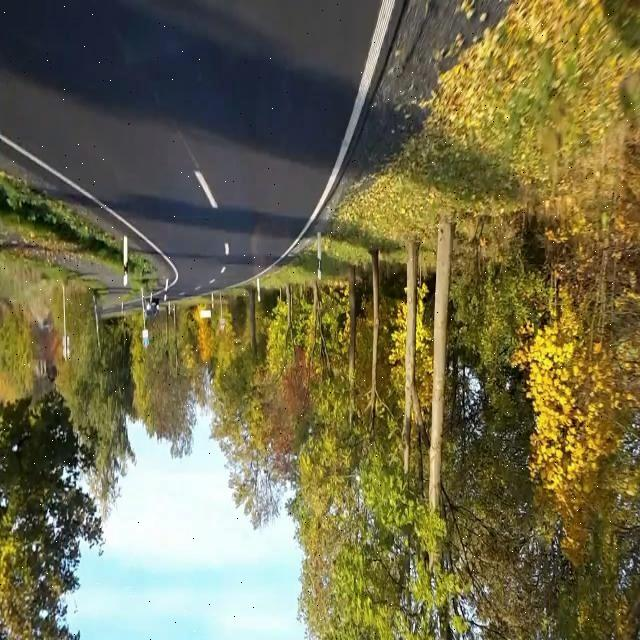lane: (273, 1, 395, 265), (0, 134, 179, 284), (194, 169, 219, 209)
road: (0, 1, 380, 297)
